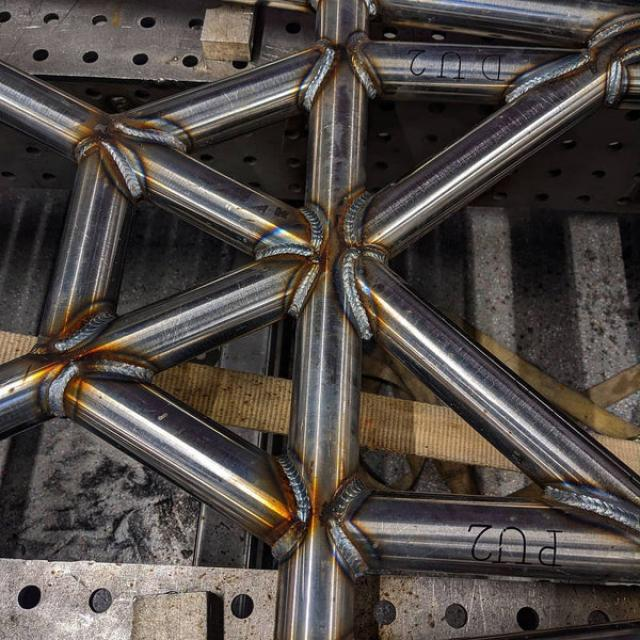Good Welding: (330, 58, 640, 512)
